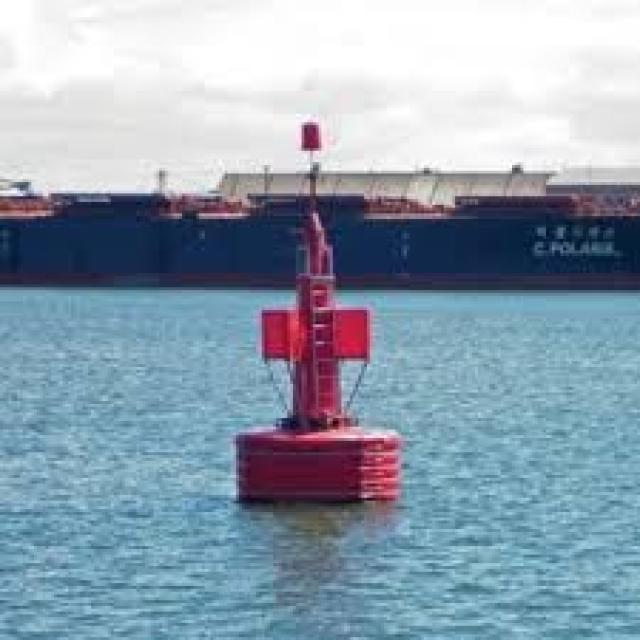buoy: (222, 96, 412, 533)
